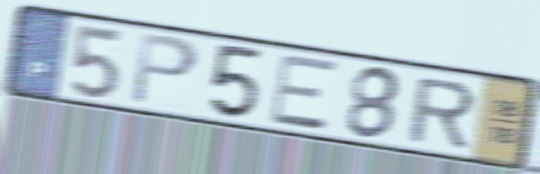5: (204, 41, 269, 122), (66, 19, 130, 101)
8: (343, 63, 401, 141)
E: (268, 53, 341, 134)
P: (127, 29, 202, 108)
R: (405, 75, 478, 151)
